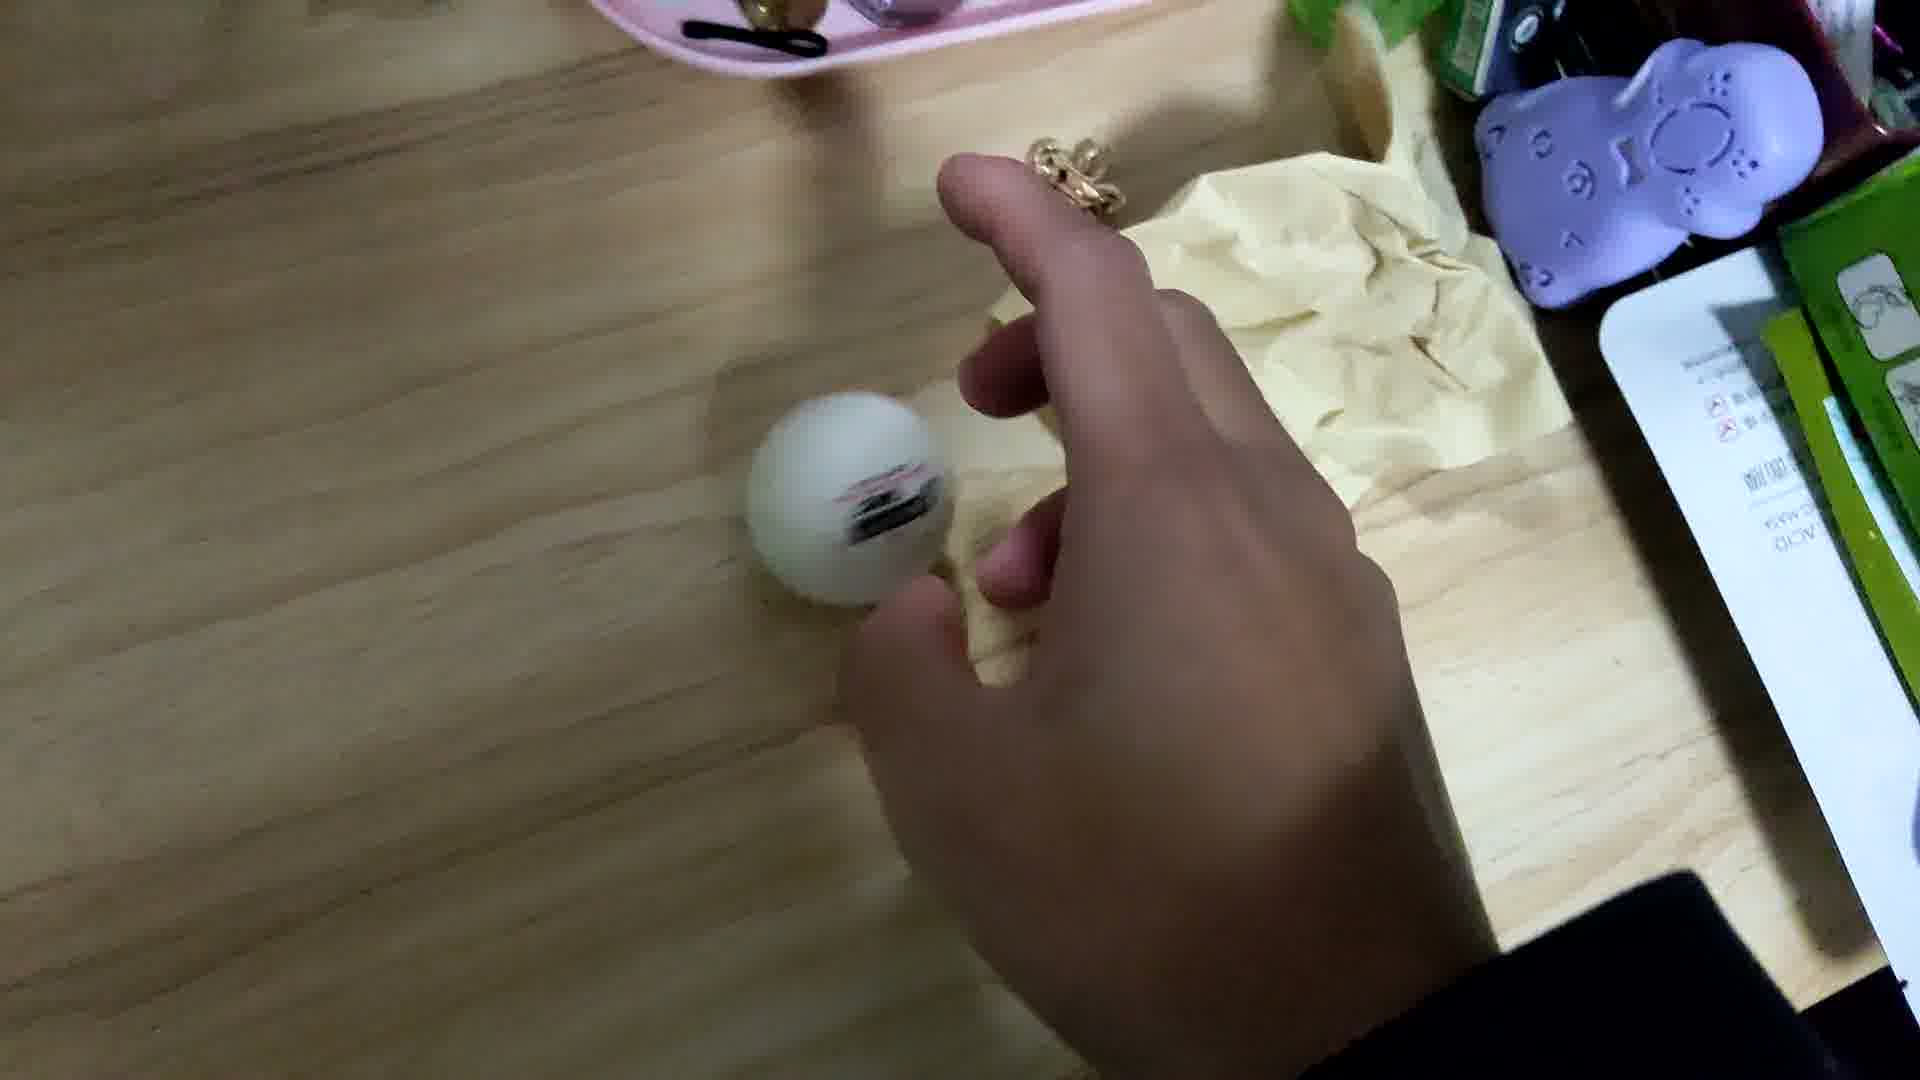Ball: (746, 386, 949, 613)
